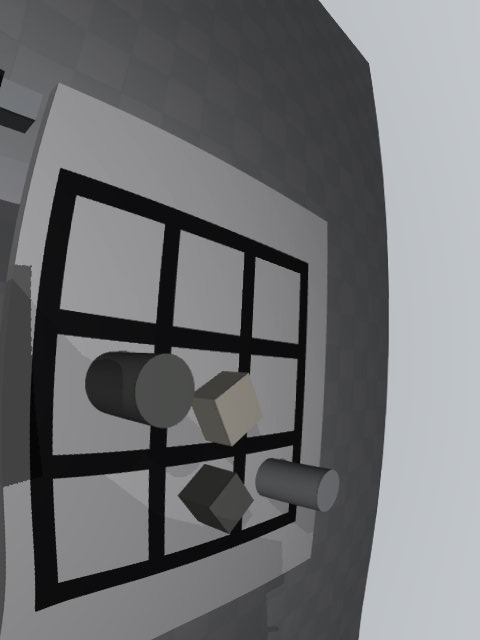can: (255, 458, 339, 512)
cube: (178, 464, 254, 534)
cylinder: (85, 351, 195, 429)
foam: (192, 371, 263, 446)
